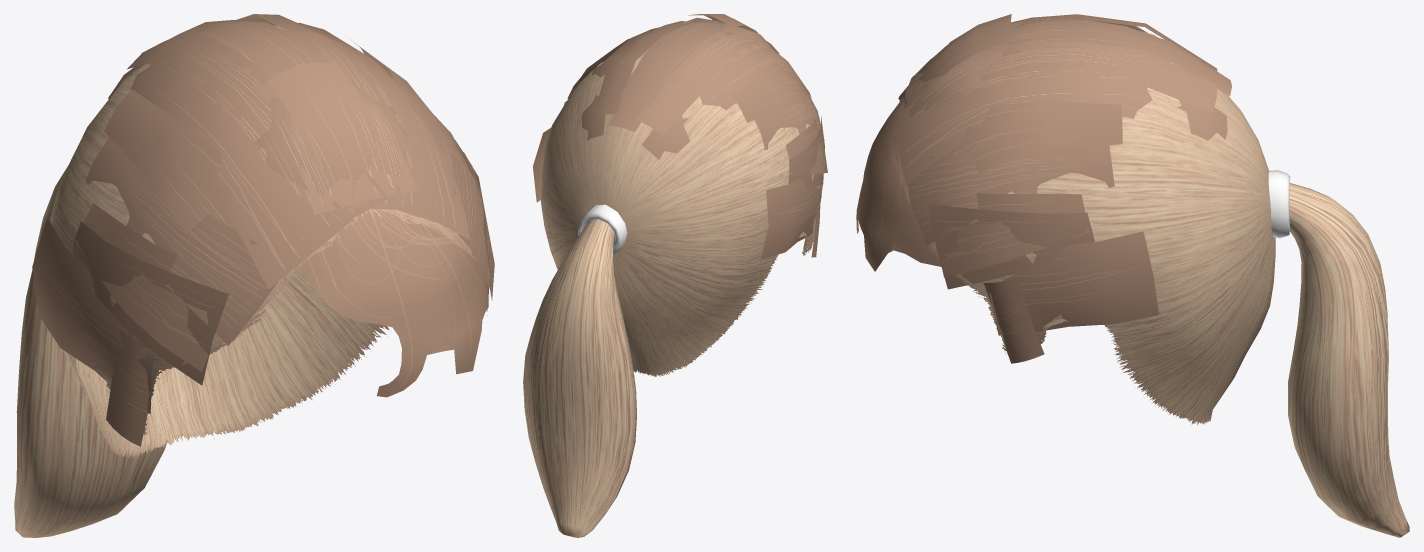
The model's file is hair_001.obj.
3 renders of one model, left to right at view 1: azimuth 30°, elevation 25°; view 2: azimuth 150°, elevation 25°; view 3: azimuth 270°, elevation 25°, orthographic. The views are drawn at different scales.
Size of the model in its own units: 16.91 by 26.86 by 25.83.
